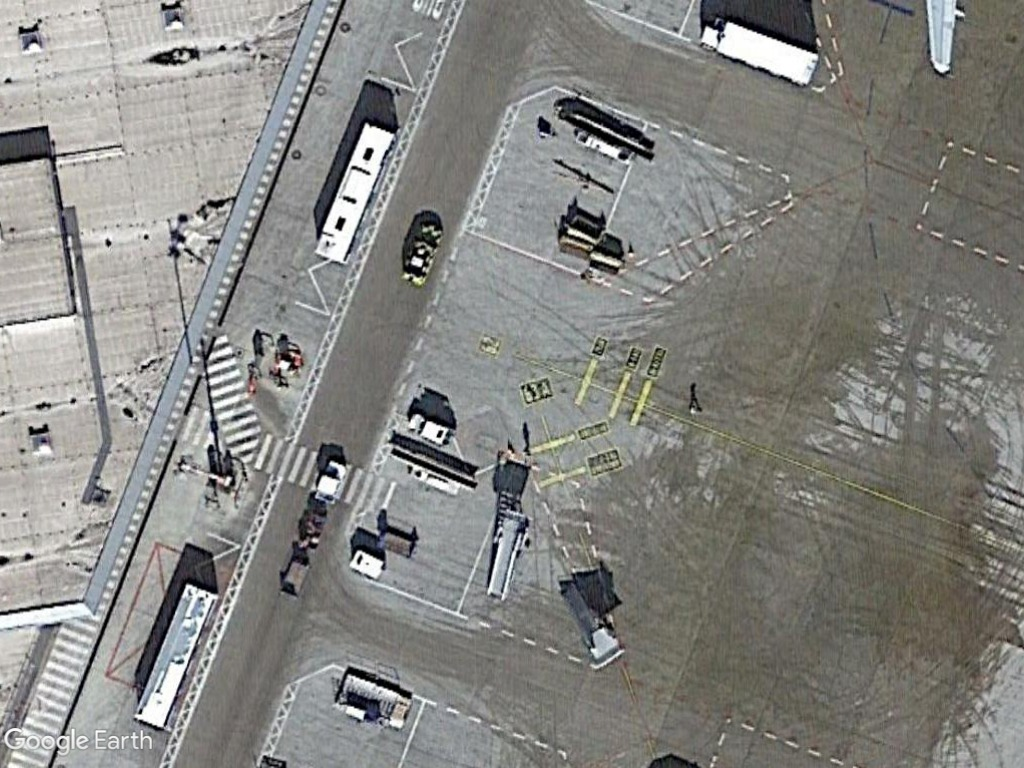bus: (309, 112, 400, 271)
longvehicle: (123, 576, 224, 738)
stairtruck: (476, 505, 539, 604)
truck: (695, 15, 826, 88)
